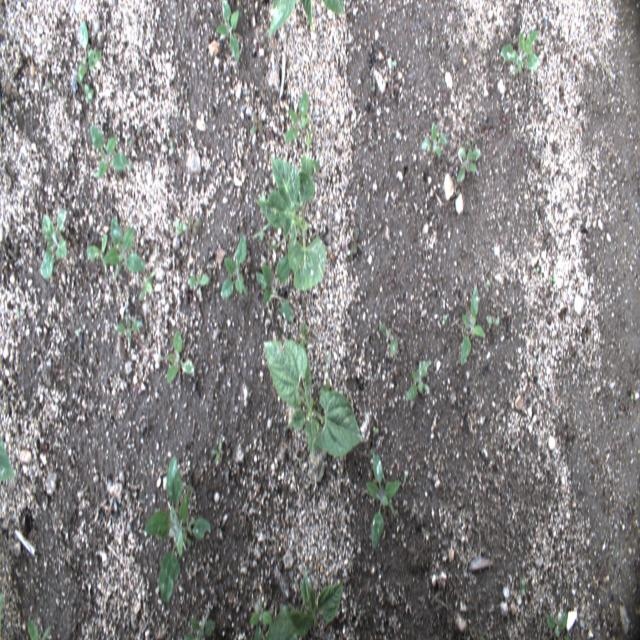crop: (260, 340, 366, 462), (256, 155, 327, 295), (270, 0, 354, 46)
weed: (142, 456, 212, 613), (260, 565, 348, 633), (85, 212, 150, 277), (362, 455, 398, 564), (256, 250, 300, 326), (89, 119, 134, 181), (458, 277, 485, 368), (74, 7, 102, 85), (497, 29, 542, 76), (40, 208, 68, 283), (220, 230, 248, 299), (418, 121, 454, 162), (216, 3, 240, 64), (402, 352, 431, 402), (170, 328, 200, 376), (114, 309, 143, 353), (285, 90, 308, 142), (456, 140, 480, 181), (245, 600, 274, 630), (187, 266, 211, 300), (73, 86, 98, 104)
